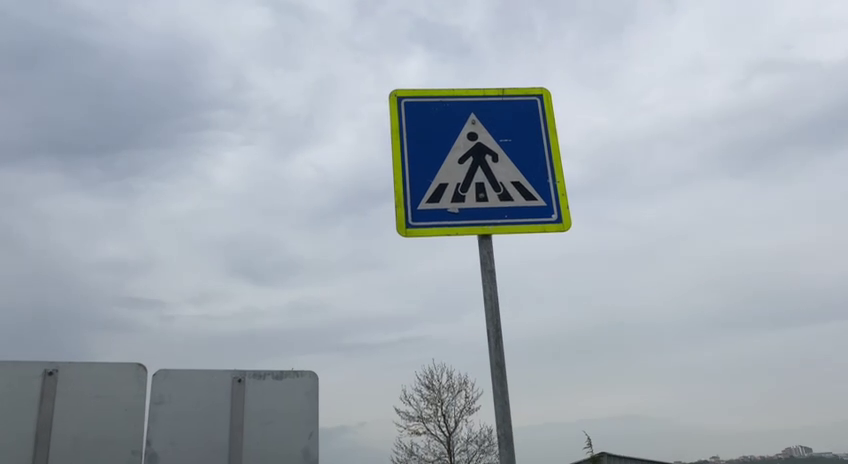pedestrianCrossing: (386, 84, 574, 236)
